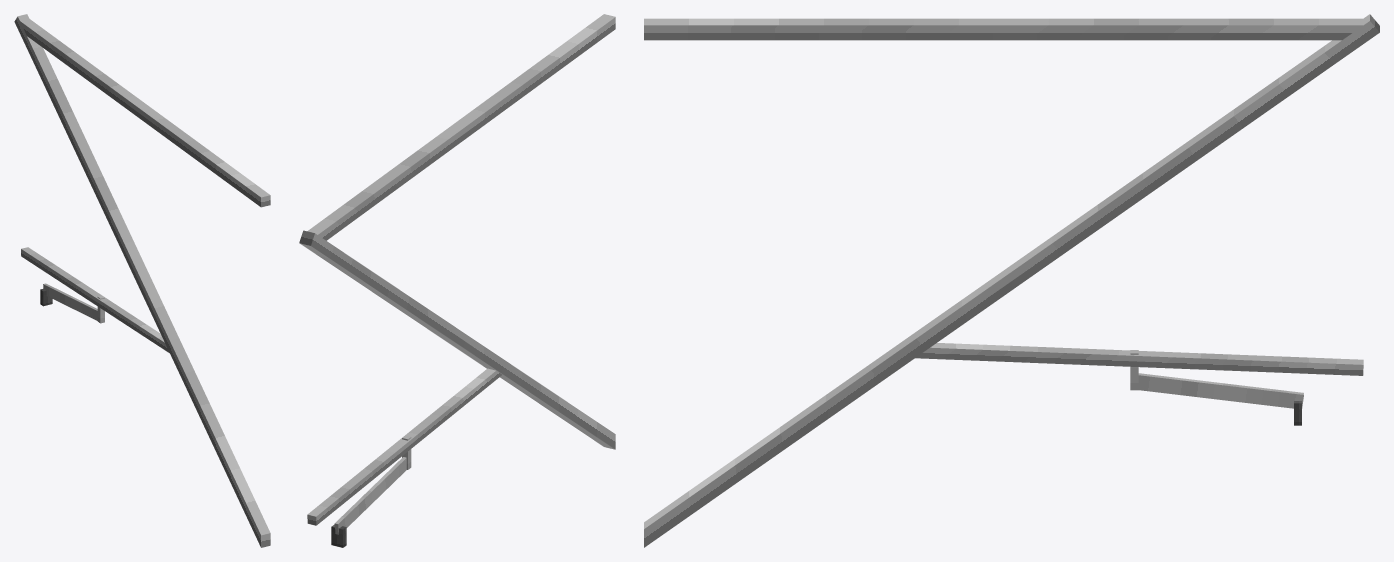
The model's file is cantilever_inner_8px.obj.
3 views of the same model, side by side, from view 1: azimuth 30°, elevation 25°; view 2: azimuth 150°, elevation 25°; view 3: azimuth 270°, elevation 25° (orthographic). The views are drawn at different scales.
Parts seen in each view (by area): view 1: 3f73d617-3daf-4400-a778-cb125c34fa06, 4aded124-5738-49a6-9760-23a025fcc91e, 04395942-5372-4aeb-bae3-dbc8fb488be0, 0afb05de-f23d-4d0c-b6e4-939ab31aaa52; view 2: 4aded124-5738-49a6-9760-23a025fcc91e, 3f73d617-3daf-4400-a778-cb125c34fa06, 04395942-5372-4aeb-bae3-dbc8fb488be0, 0afb05de-f23d-4d0c-b6e4-939ab31aaa52; view 3: 3f73d617-3daf-4400-a778-cb125c34fa06, 4aded124-5738-49a6-9760-23a025fcc91e, 04395942-5372-4aeb-bae3-dbc8fb488be0, 0afb05de-f23d-4d0c-b6e4-939ab31aaa52.
Boxes of the visible parts, x1=… form: 3f73d617-3daf-4400-a778-cb125c34fa06: x1=14, y1=14, x2=270, y2=547; 4aded124-5738-49a6-9760-23a025fcc91e: x1=20, y1=18, x2=270, y2=207; 04395942-5372-4aeb-bae3-dbc8fb488be0: x1=21, y1=247, x2=169, y2=352; 0afb05de-f23d-4d0c-b6e4-939ab31aaa52: x1=43, y1=283, x2=97, y2=320; 4aded124-5738-49a6-9760-23a025fcc91e: x1=307, y1=14, x2=615, y2=240; 3f73d617-3daf-4400-a778-cb125c34fa06: x1=299, y1=230, x2=615, y2=449; 04395942-5372-4aeb-bae3-dbc8fb488be0: x1=307, y1=368, x2=502, y2=525; 0afb05de-f23d-4d0c-b6e4-939ab31aaa52: x1=334, y1=457, x2=406, y2=534; 3f73d617-3daf-4400-a778-cb125c34fa06: x1=644, y1=14, x2=1379, y2=547; 4aded124-5738-49a6-9760-23a025fcc91e: x1=644, y1=18, x2=1363, y2=40; 04395942-5372-4aeb-bae3-dbc8fb488be0: x1=915, y1=343, x2=1363, y2=375; 0afb05de-f23d-4d0c-b6e4-939ab31aaa52: x1=1138, y1=373, x2=1303, y2=408.
Size of the model in its own units: 0.0625 by 2.22 by 2.81.
